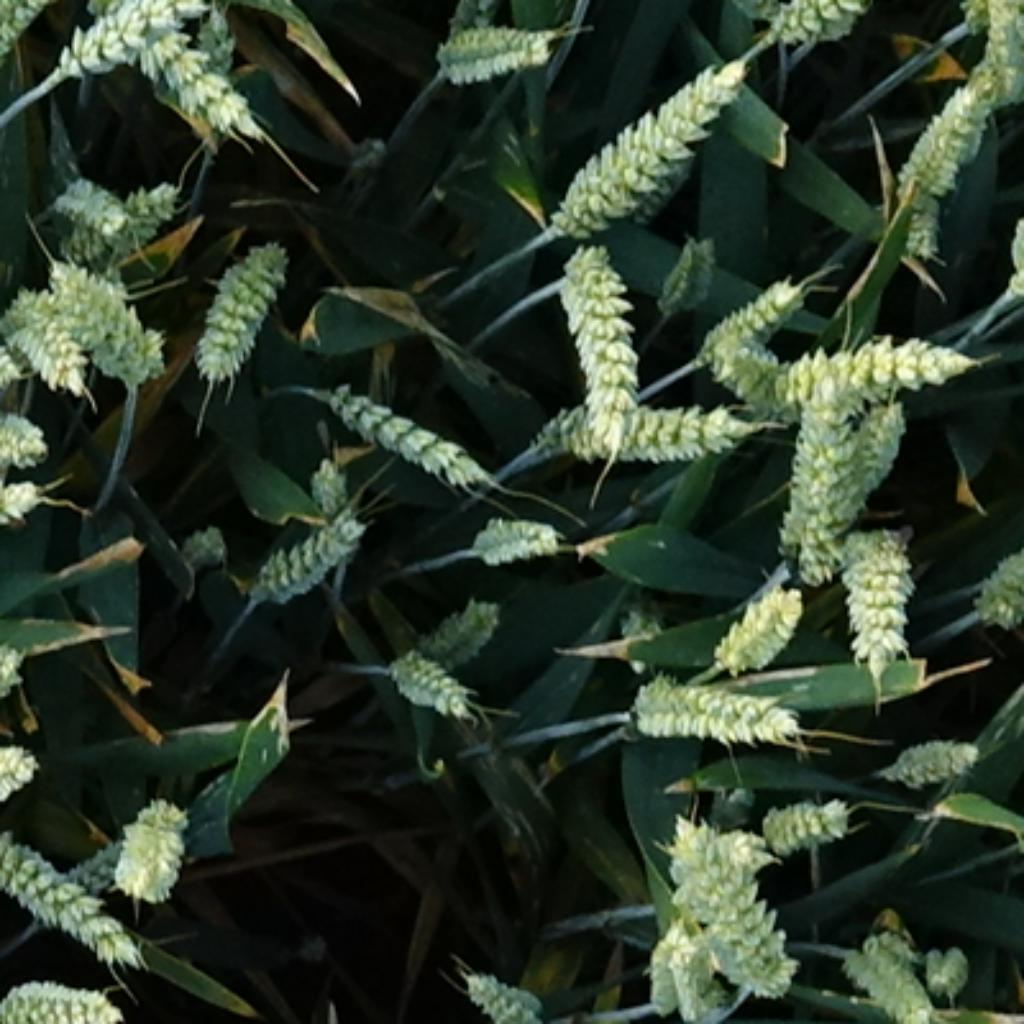0-0: (537, 48, 755, 238), (655, 803, 803, 998), (115, 15, 287, 156), (540, 225, 652, 435), (317, 363, 483, 488), (752, 320, 980, 407), (0, 816, 138, 957), (547, 373, 755, 465), (880, 58, 1000, 212), (35, 250, 166, 384), (187, 237, 297, 390), (770, 381, 865, 550), (243, 481, 376, 601), (50, 0, 219, 92), (616, 663, 806, 742), (829, 529, 921, 675), (28, 826, 135, 942), (46, 176, 184, 263), (834, 913, 939, 1024), (110, 794, 208, 912), (839, 391, 919, 527), (0, 284, 89, 397), (709, 568, 811, 665), (435, 15, 568, 87), (691, 266, 806, 345), (642, 901, 721, 1013), (704, 320, 801, 404), (0, 965, 128, 1024), (404, 588, 501, 663), (378, 637, 476, 711), (455, 952, 552, 1024), (887, 733, 994, 797), (0, 455, 62, 565), (752, 783, 855, 849), (883, 158, 954, 253), (962, 540, 1024, 645), (740, 0, 881, 46), (469, 509, 572, 570), (609, 591, 670, 680), (657, 227, 721, 307), (53, 176, 135, 238), (979, 0, 1023, 111), (793, 522, 857, 593), (192, 5, 241, 97), (0, 396, 51, 460), (304, 454, 349, 525), (0, 724, 40, 798), (172, 517, 226, 571), (931, 941, 972, 1000)
